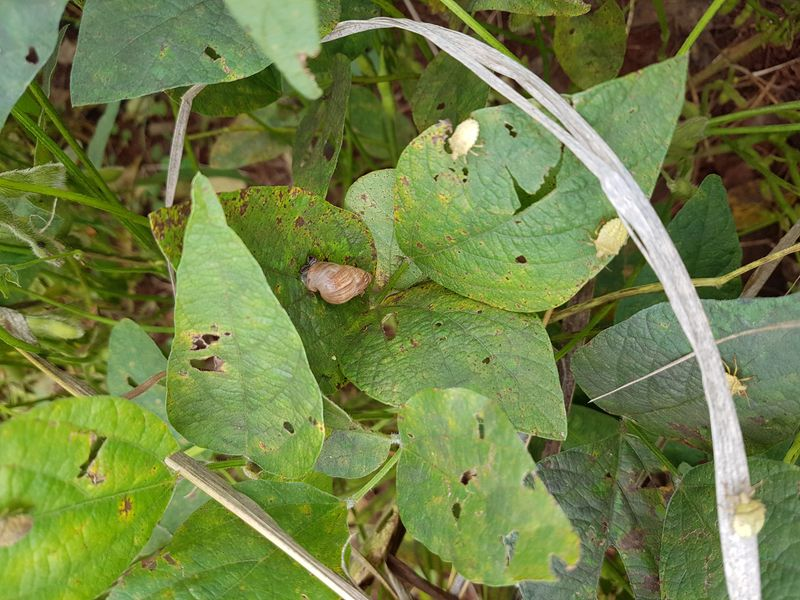Euschistus_heros_ninfa: (719, 477, 775, 544), (583, 212, 635, 265), (439, 115, 493, 166), (708, 355, 759, 407)
Gastropoda: (292, 249, 381, 318)
